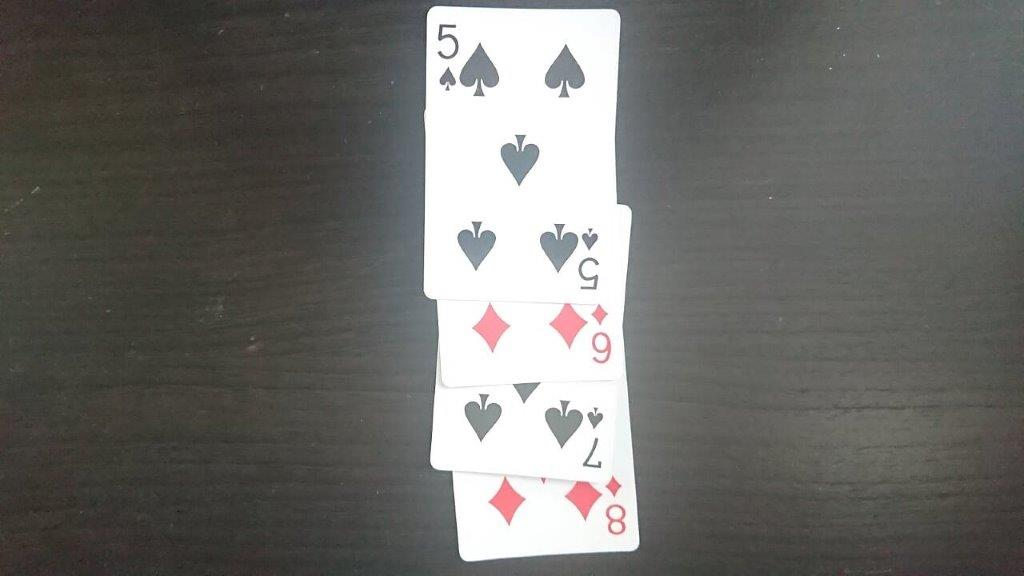5S: (422, 4, 624, 305)
6D: (436, 306, 622, 389)
7S: (427, 390, 622, 485)
8D: (453, 486, 643, 564)
